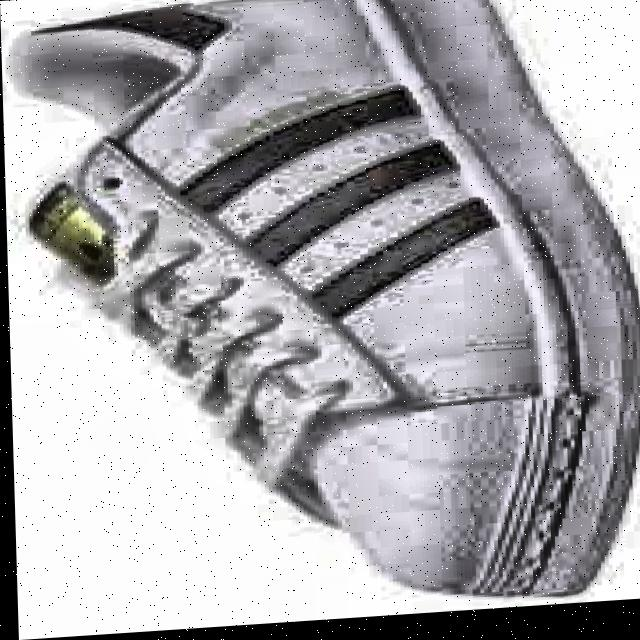shoes: (0, 0, 602, 636)
